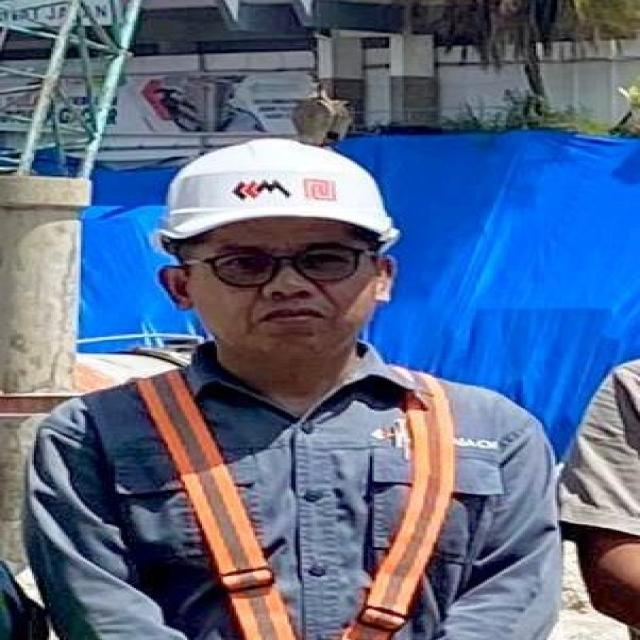safetyhelmet: (145, 125, 413, 295)
